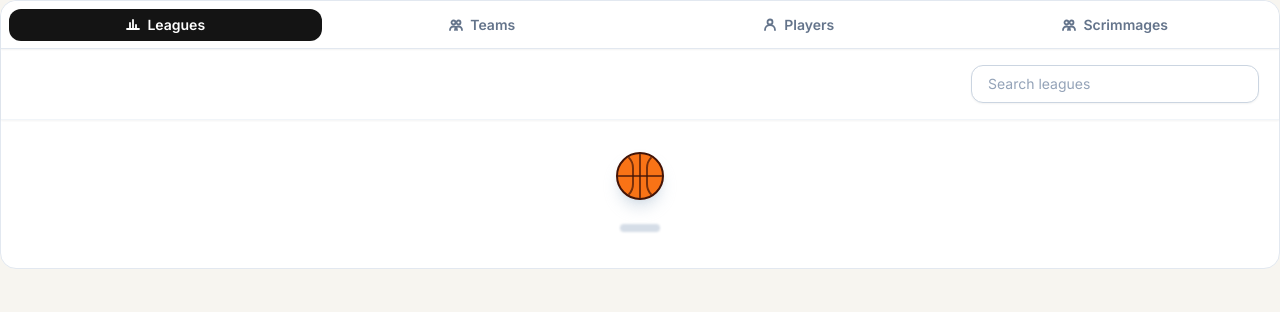
HomePage › filters leagues and teams by search input
The image size is (1280, 312).
Type "winter" into the search field with placeholder "Search leagues".
click(1115, 84); type("winter")  # box [971, 65, 1259, 103]
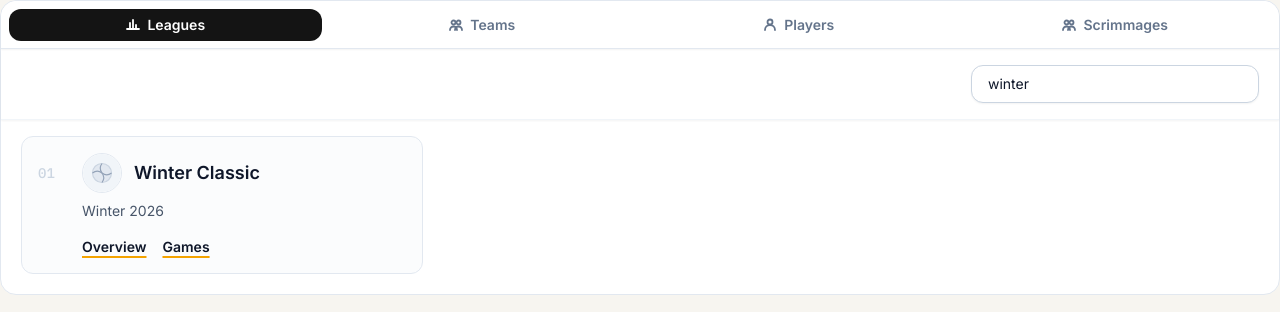
Expected: the heading "Winter Classic" is shown, [134, 159, 260, 187]
Click the tab "Teams".
click(482, 25)  # box [326, 9, 638, 41]
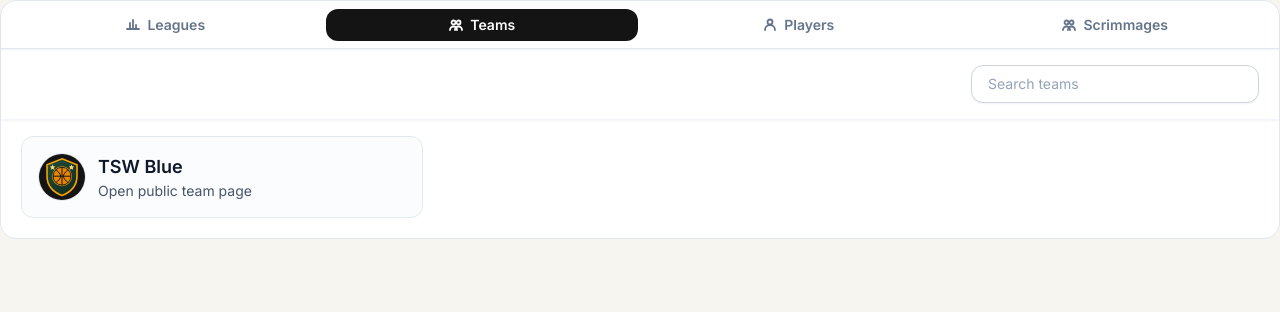
Expected: the search field with placeholder "Search teams" is shown
Type "nonexistent" into the search field with placeholder "Search teams".
click(1115, 84); type("nonexistent")  # box [971, 65, 1259, 103]
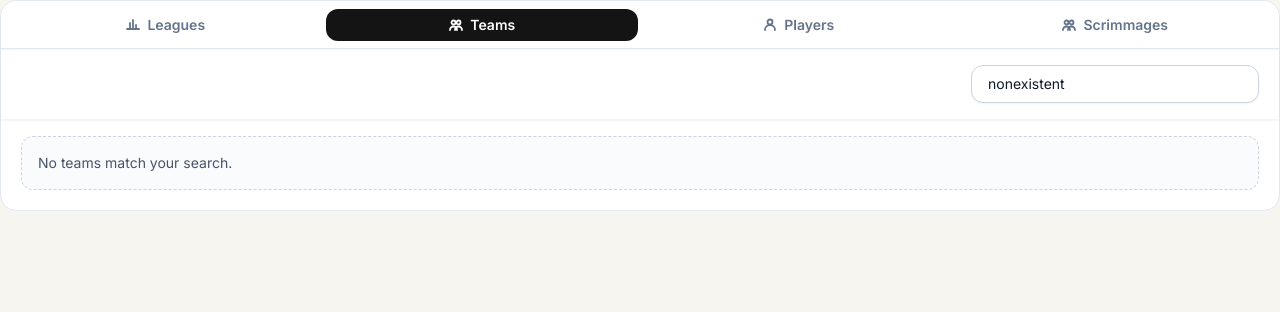
Expected: the text "No teams match your search." is shown, [21, 136, 1259, 190]
